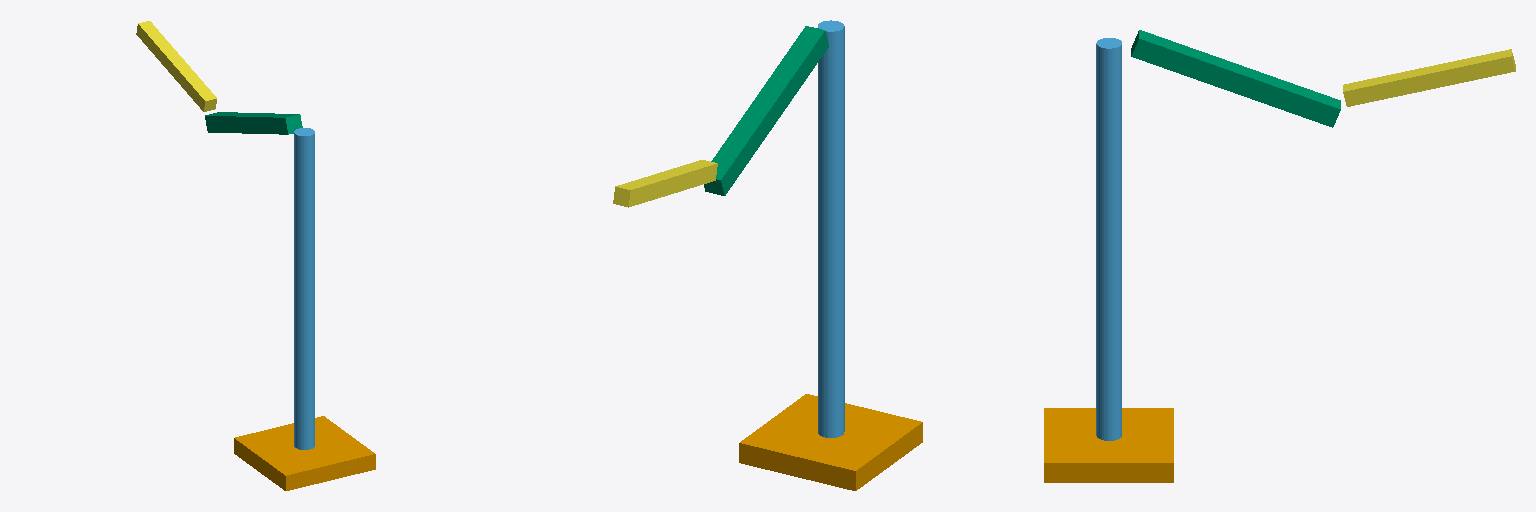
URDF robot description (pendulum):
<?xml version="1.0"?>
<!-- A two-link pendulum on a post: revolute joints, boxes and cylinders, no mesh files -->
<robot name="pendulum">
  <link name="base">
    <visual><geometry><box size="0.3 0.3 0.05"/></geometry><origin xyz="0 0 0.025"/></visual>
    <collision><geometry><box size="0.3 0.3 0.05"/></geometry><origin xyz="0 0 0.025"/></collision>
    <inertial><mass value="5"/><inertia ixx="0.04" iyy="0.04" izz="0.07" ixy="0" ixz="0" iyz="0"/></inertial>
  </link>
  <link name="post">
    <visual><geometry><cylinder radius="0.03" length="1.0"/></geometry><origin xyz="0 0 0.5"/></visual>
    <collision><geometry><cylinder radius="0.03" length="1.0"/></geometry><origin xyz="0 0 0.5"/></collision>
    <inertial><mass value="2"/><origin xyz="0 0 0.5"/><inertia ixx="0.17" iyy="0.17" izz="0.001" ixy="0" ixz="0" iyz="0"/></inertial>
  </link>
  <joint name="base_to_post" type="fixed">
    <parent link="base"/><child link="post"/><origin xyz="0 0 0.05"/>
  </joint>
  <link name="upper">
    <visual><geometry><box size="0.05 0.05 0.5"/></geometry><origin xyz="0 0 -0.25"/></visual>
    <collision><geometry><box size="0.05 0.05 0.5"/></geometry><origin xyz="0 0 -0.25"/></collision>
    <inertial><mass value="1"/><origin xyz="0 0 -0.25"/><inertia ixx="0.021" iyy="0.021" izz="0.0004" ixy="0" ixz="0" iyz="0"/></inertial>
  </link>
  <joint name="shoulder" type="revolute">
    <parent link="post"/><child link="upper"/><origin xyz="0 0.06 1.0" rpy="1.2 0 0"/>
    <axis xyz="0 1 0"/><limit lower="-3.14" upper="3.14" effort="10" velocity="10"/><dynamics damping="0.05"/>
  </joint>
  <link name="lower">
    <visual><geometry><box size="0.04 0.04 0.4"/></geometry><origin xyz="0 0 -0.2"/></visual>
    <collision><geometry><box size="0.04 0.04 0.4"/></geometry><origin xyz="0 0 -0.2"/></collision>
    <inertial><mass value="0.5"/><origin xyz="0 0 -0.2"/><inertia ixx="0.0067" iyy="0.0067" izz="0.0001" ixy="0" ixz="0" iyz="0"/></inertial>
  </link>
  <joint name="elbow" type="revolute">
    <parent link="upper"/><child link="lower"/><origin xyz="0 0.05 -0.5" rpy="0.6 0 0"/>
    <axis xyz="0 1 0"/><limit lower="-3.14" upper="3.14" effort="10" velocity="10"/><dynamics damping="0.05"/>
  </joint>
</robot>

--- Facts derived from the render (not from the file) ---
Views: 3 orthographic renders of the robot side by side, from view 1: azimuth 30°, elevation 25°; view 2: azimuth 150°, elevation 25°; view 3: azimuth 270°, elevation 25°.
Robot: pendulum — 4 links, 3 joints (2 revolute, 1 fixed); root link base; default pose: all joints at 0.
Visible links, largest first — view 1: post, base, lower, upper; view 2: post, base, upper, lower; view 3: post, base, upper, lower.
Link boxes in pixels (bbox=[...]): post: bbox=[294, 128, 314, 449]; base: bbox=[234, 416, 375, 490]; lower: bbox=[136, 21, 216, 111]; upper: bbox=[205, 112, 302, 134]; post: bbox=[818, 20, 844, 437]; base: bbox=[739, 394, 922, 490]; upper: bbox=[704, 26, 828, 195]; lower: bbox=[613, 160, 717, 207]; post: bbox=[1096, 38, 1121, 440]; base: bbox=[1044, 408, 1173, 482]; upper: bbox=[1131, 30, 1340, 127]; lower: bbox=[1343, 49, 1515, 106].
Bounding box of the posed robot: 0.3 × 1.09 × 1.07 m (x, y, z).
Geometry: primitives only (box / cylinder / sphere), no mesh files.
